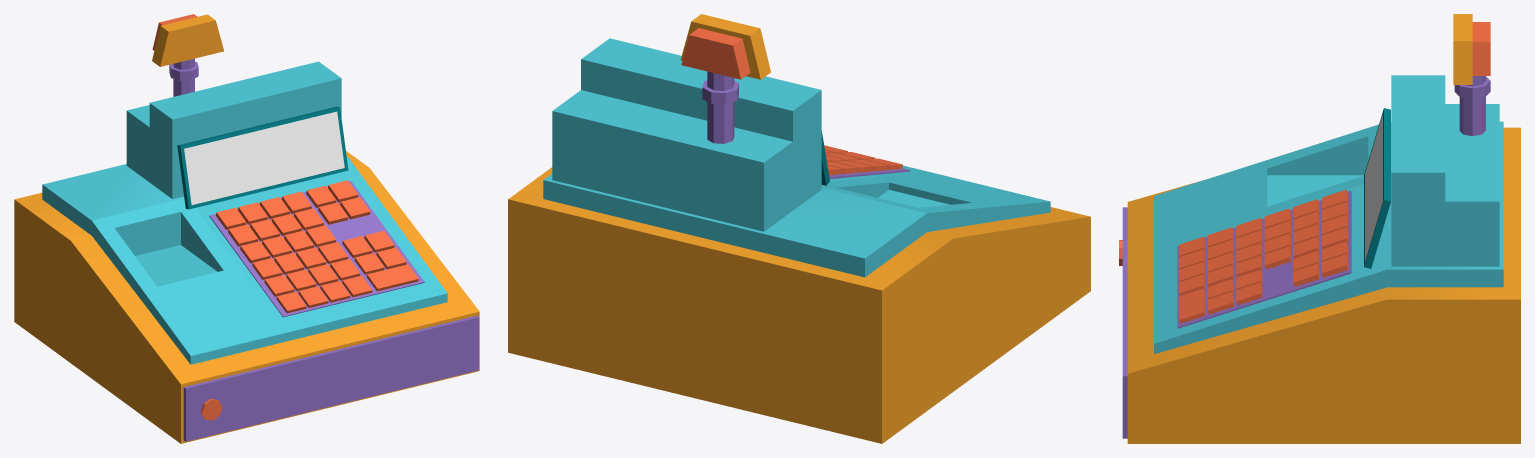
Rendered from Case lv1.fbx.
3 views of the same model, side by side, from view 1: azimuth 30°, elevation 25°; view 2: azimuth 150°, elevation 25°; view 3: azimuth 270°, elevation 25° (orthographic). The views are drawn at different scales.
Visible parts, largest first — view 1: Case_lv1; view 2: Case_lv1; view 3: Case_lv1.
Boxes of the visible parts, bbox=[...] form: Case_lv1: bbox=[14, 14, 479, 443]; Case_lv1: bbox=[508, 14, 1090, 443]; Case_lv1: bbox=[1119, 14, 1520, 443].
Size of the model in its own units: 79.65 by 71.42 by 78.67.
